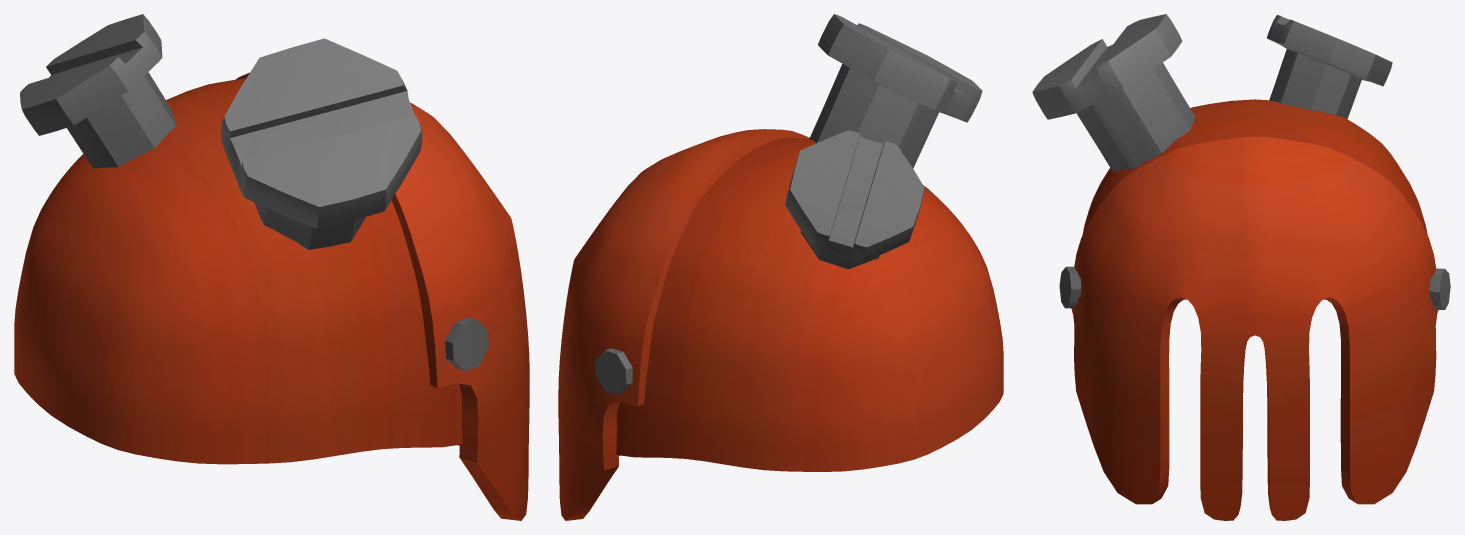
File: Fire.fbx
The picture shows the model from 3 angles, left to right: view 1: azimuth 30°, elevation 25°; view 2: azimuth 150°, elevation 25°; view 3: azimuth 270°, elevation 25°; orthographic projection. The views are drawn at different scales.
Parts seen in each view (by area): view 1: Cube, Cube.001, Cube.004, Cube.005, Cube.003; view 2: Cube, Cube.001, Cube.005, Cube.004, Cube.002; view 3: Cube.001, Cube.004, Cube, Cube.005, Cube.003, Cube.002.
Boxes of the visible parts, box(x1,y1,x2,y2) form: Cube: box(14, 78, 462, 464); Cube.001: box(236, 72, 529, 520); Cube.004: box(221, 38, 422, 249); Cube.005: box(20, 14, 175, 168); Cube.003: box(445, 317, 488, 370); Cube: box(616, 137, 1003, 471); Cube.001: box(558, 129, 809, 520); Cube.005: box(785, 130, 924, 269); Cube.004: box(809, 14, 982, 168); Cube.002: box(595, 348, 632, 394); Cube.001: box(1071, 136, 1438, 520); Cube.004: box(1032, 14, 1195, 172); Cube: box(1082, 99, 1427, 234); Cube.005: box(1267, 15, 1392, 118); Cube.003: box(1059, 266, 1081, 308); Cube.002: box(1429, 268, 1450, 309).
Bounding box in the file's own units: 172 × 192 × 180.
